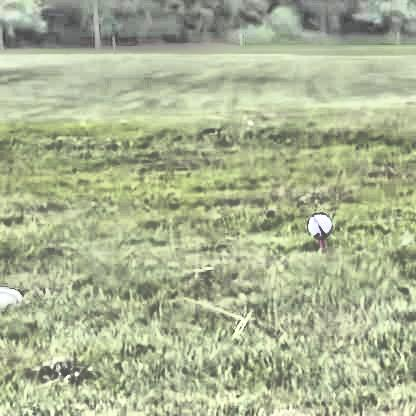golfball: (304, 212, 323, 234)
